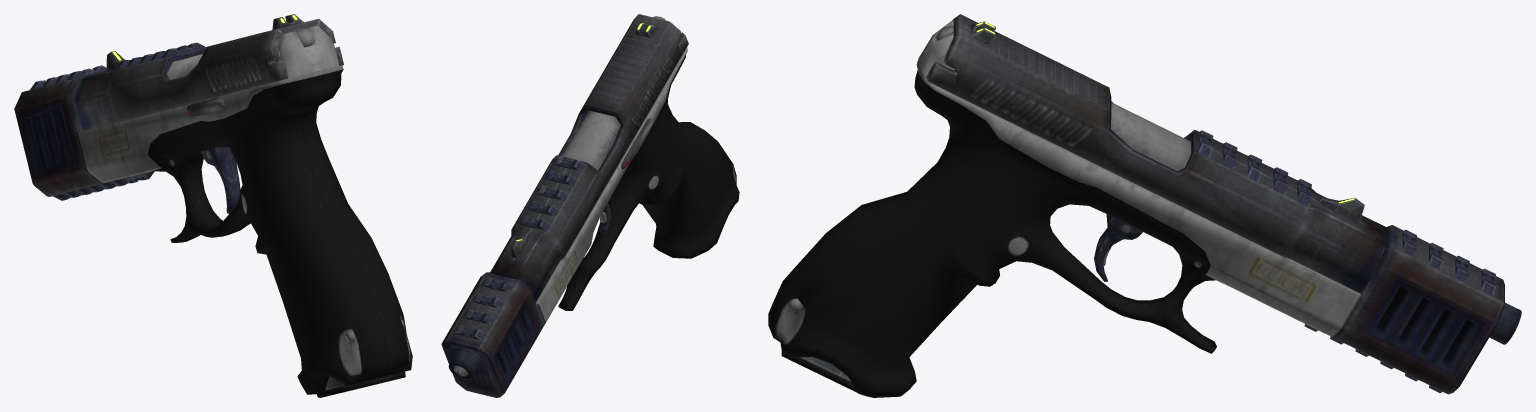
File: silah_dokuzmm.glb
3 renders of one model, left to right at view 1: azimuth 30°, elevation 25°; view 2: azimuth 150°, elevation 25°; view 3: azimuth 270°, elevation 25°, orthographic. The views are drawn at different scales.
Visible parts, largest first — view 1: Frame_low_GunGs_0, Slide_low_GunGs_0, Trigger_low_GunGs_0, Slide Stop_low_GunGs_0, Ejector_low_GunGs_0; view 2: Frame_low_GunGs_0, Slide_low_GunGs_0, Ejector_low_GunGs_0, Slide Stop_low_GunGs_0; view 3: Frame_low_GunGs_0, Slide_low_GunGs_0, Ejector_low_GunGs_0, Trigger_low_GunGs_0.
Boxes of the visible parts, bbox=[...] form: Frame_low_GunGs_0: bbox=[14, 25, 412, 397]; Slide_low_GunGs_0: bbox=[74, 14, 343, 130]; Trigger_low_GunGs_0: bbox=[201, 147, 240, 213]; Slide Stop_low_GunGs_0: bbox=[186, 97, 224, 116]; Ejector_low_GunGs_0: bbox=[167, 54, 202, 79]; Frame_low_GunGs_0: bbox=[441, 15, 739, 397]; Slide_low_GunGs_0: bbox=[490, 14, 688, 302]; Ejector_low_GunGs_0: bbox=[562, 110, 620, 169]; Slide Stop_low_GunGs_0: bbox=[621, 118, 652, 169]; Frame_low_GunGs_0: bbox=[768, 20, 1521, 397]; Slide_low_GunGs_0: bbox=[925, 14, 1387, 293]; Ejector_low_GunGs_0: bbox=[1111, 102, 1190, 171]; Trigger_low_GunGs_0: bbox=[1094, 214, 1142, 281].
Size of the model in its own units: 31.21 by 120 by 227.
1 material, 1 textured.
